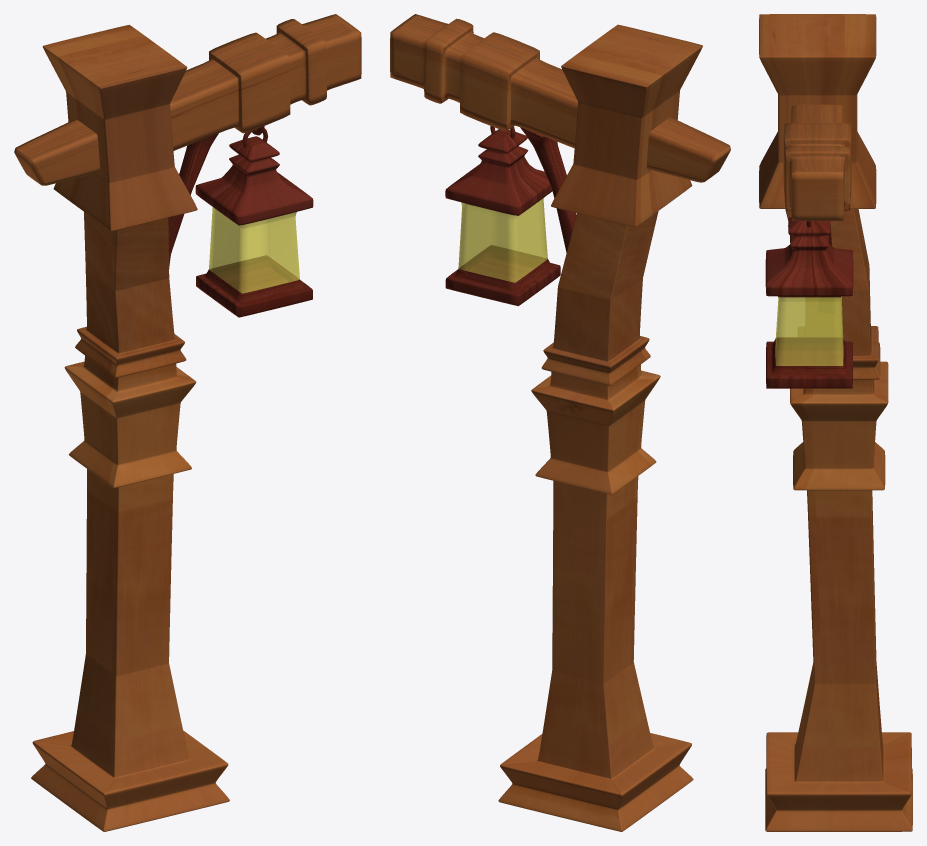
Rendered from myworkandyzain.fbx.
3 views of the same model, side by side, from view 1: azimuth 30°, elevation 25°; view 2: azimuth 150°, elevation 25°; view 3: azimuth 270°, elevation 25° (orthographic). The views are drawn at different scales.
Visible parts, largest first — view 1: pCube68, pCube65, pCube67, pCube66; view 2: pCube68, pCube65, pCube67, pCube66; view 3: pCube68, pCube67, pCube65.
Boxes of the visible parts, x1=… form: pCube68: x1=31, y1=24, x2=229, y2=831; pCube65: x1=14, y1=14, x2=361, y2=185; pCube67: x1=195, y1=136, x2=313, y2=317; pCube66: x1=168, y1=133, x2=218, y2=268; pCube68: x1=498, y1=24, x2=702, y2=831; pCube65: x1=390, y1=14, x2=730, y2=182; pCube67: x1=445, y1=129, x2=560, y2=306; pCube66: x1=520, y1=127, x2=576, y2=252; pCube68: x1=759, y1=14, x2=912, y2=831; pCube67: x1=765, y1=217, x2=853, y2=388; pCube65: x1=783, y1=104, x2=851, y2=220.
Size of the model in its own units: 1.56 by 3.41 by 0.6296.
